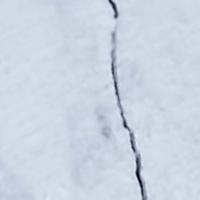crack: (86, 0, 163, 199)
